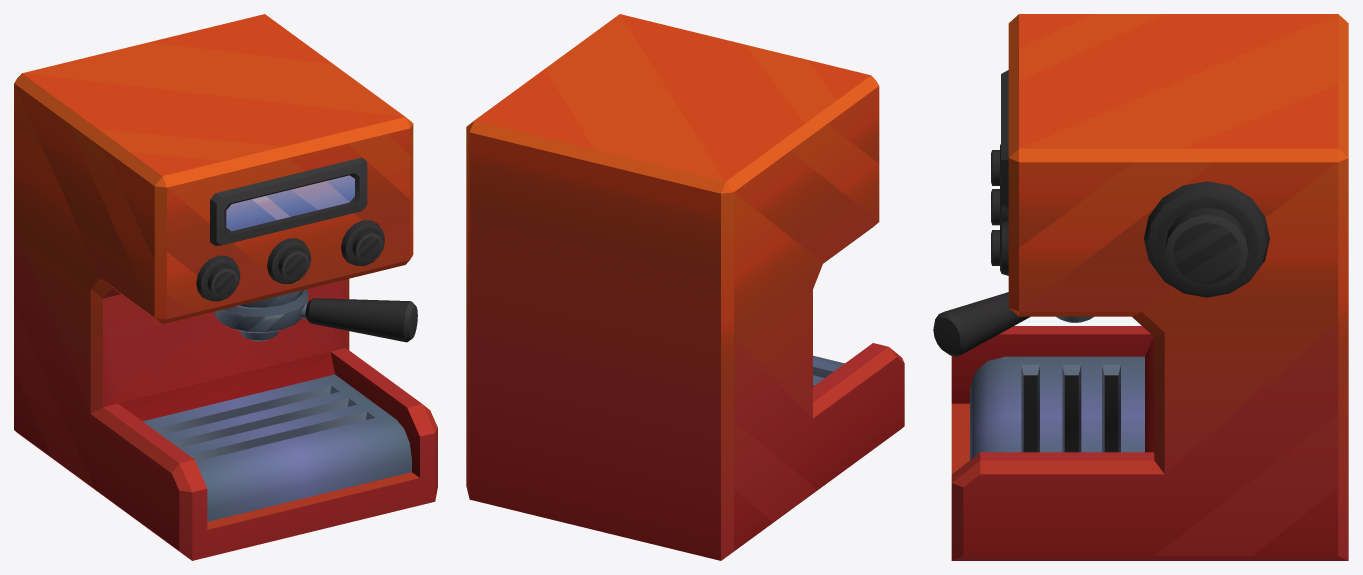
File: expresso_machine.fbx
3 renders of one model, left to right at view 1: azimuth 30°, elevation 25°; view 2: azimuth 150°, elevation 25°; view 3: azimuth 270°, elevation 25°, orthographic. The views are drawn at different scales.
Visible parts, largest first — view 1: expresso_machine; view 2: expresso_machine; view 3: expresso_machine.
Boxes of the visible parts, x1,y1,x2,y2 form: expresso_machine: (14, 14, 437, 560); expresso_machine: (466, 14, 904, 560); expresso_machine: (933, 14, 1348, 560).
Bounding box in the file's own units: 44.54 × 54.02 × 49.31.
